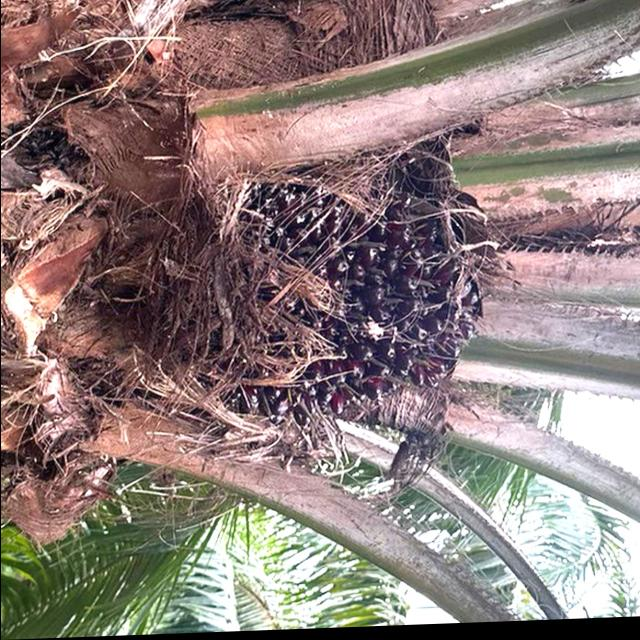ripe: (194, 147, 508, 452)
